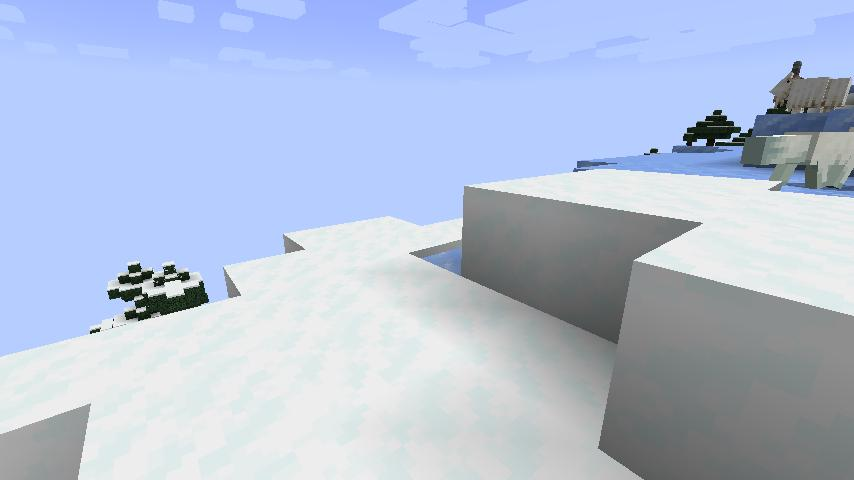fox: (738, 122, 854, 201)
goat: (766, 58, 854, 120)
